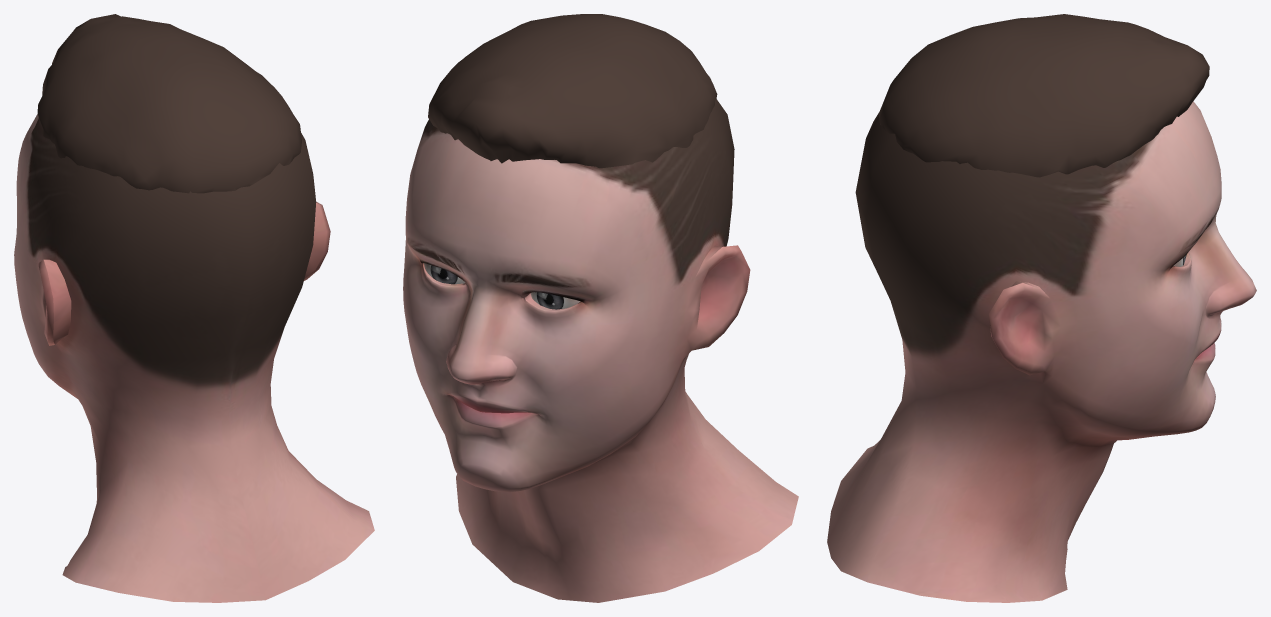
Rendered from av_craig_head.glb.
3 renders of one model, left to right at view 1: azimuth 30°, elevation 25°; view 2: azimuth 150°, elevation 25°; view 3: azimuth 270°, elevation 25°, orthographic. The views are drawn at different scales.
Visible parts, largest first — view 1: Wolf3D_Head.001, Wolf3D_Hair.001; view 2: Wolf3D_Head.001, Wolf3D_Hair.001, EyeLeft.001; view 3: Wolf3D_Head.001, Wolf3D_Hair.001.
Boxes of the visible parts, left/top/right/bottom form: Wolf3D_Head.001: left=14, top=114, right=374, bottom=602; Wolf3D_Hair.001: left=37, top=14, right=301, bottom=193; Wolf3D_Head.001: left=403, top=99, right=798, bottom=602; Wolf3D_Hair.001: left=428, top=14, right=717, bottom=168; EyeLeft.001: left=530, top=292, right=580, bottom=309; Wolf3D_Head.001: left=827, top=101, right=1256, bottom=602; Wolf3D_Hair.001: left=878, top=14, right=1209, bottom=177.
Size of the model in its own units: 0.3838 by 0.6375 by 0.4545.
5 materials, 5 textured.
